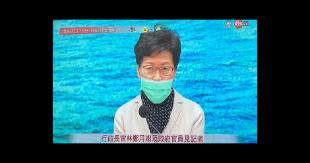mask_weared_incorrect: (142, 60, 175, 94)
